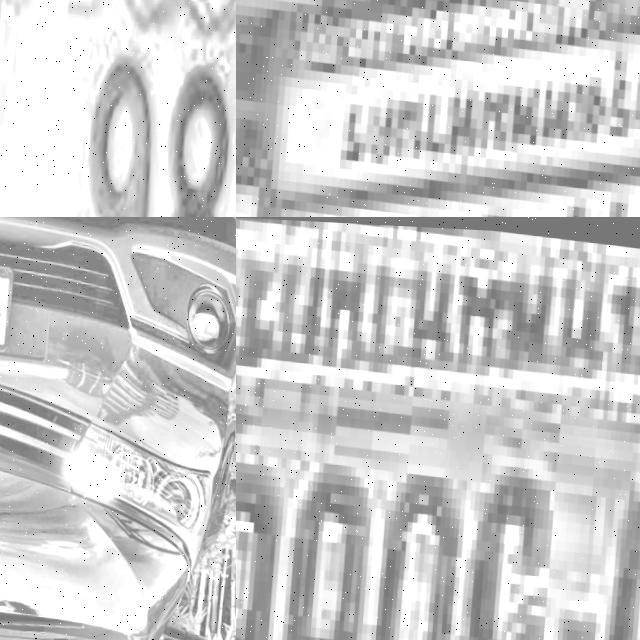license-plate: (236, 217, 640, 640), (236, 0, 640, 217), (0, 0, 236, 217)
